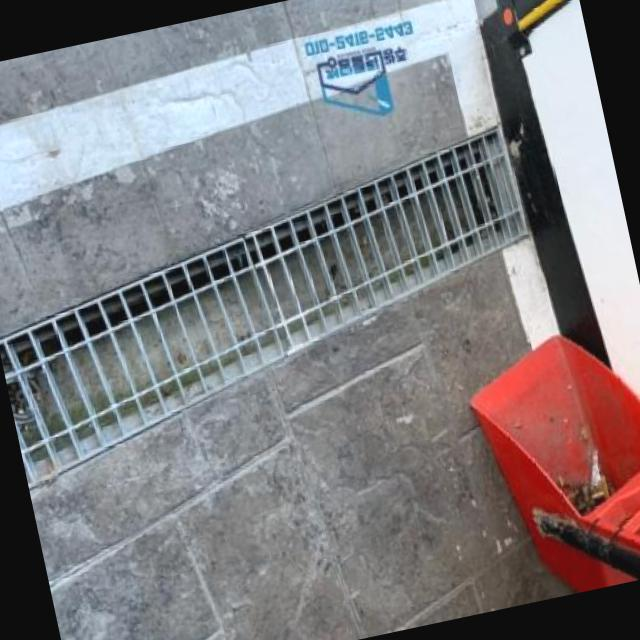drain-clean-: (0, 85, 578, 492)
